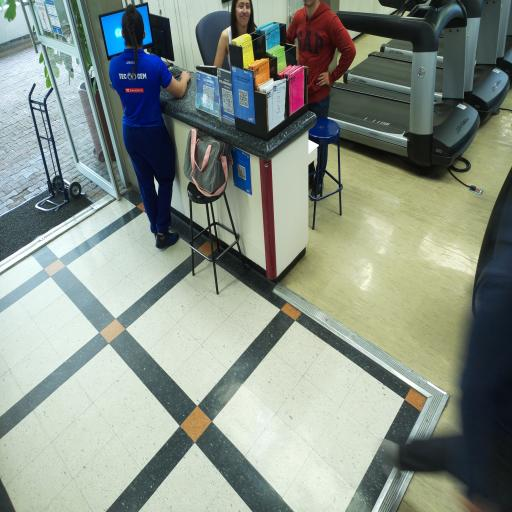person: (384, 190, 511, 511), (110, 5, 190, 248), (287, 0, 355, 118), (214, 0, 256, 67)
